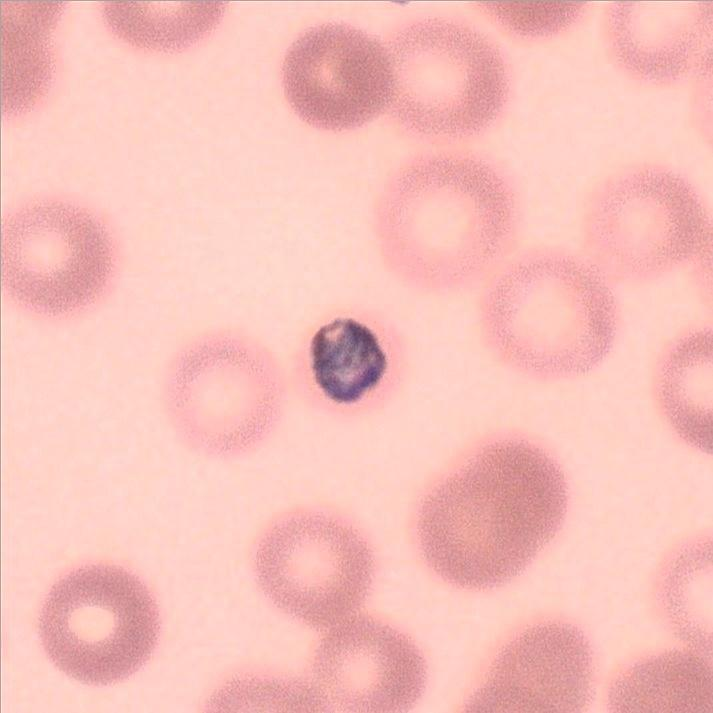Infected: (290, 295, 404, 418)
Uninfected: (380, 151, 516, 294), (482, 249, 615, 382), (152, 327, 285, 459), (32, 559, 161, 689), (248, 507, 377, 633), (384, 21, 509, 144), (576, 161, 696, 286), (0, 199, 121, 314), (412, 467, 528, 583), (284, 21, 392, 135), (472, 435, 567, 556), (308, 621, 425, 713)
